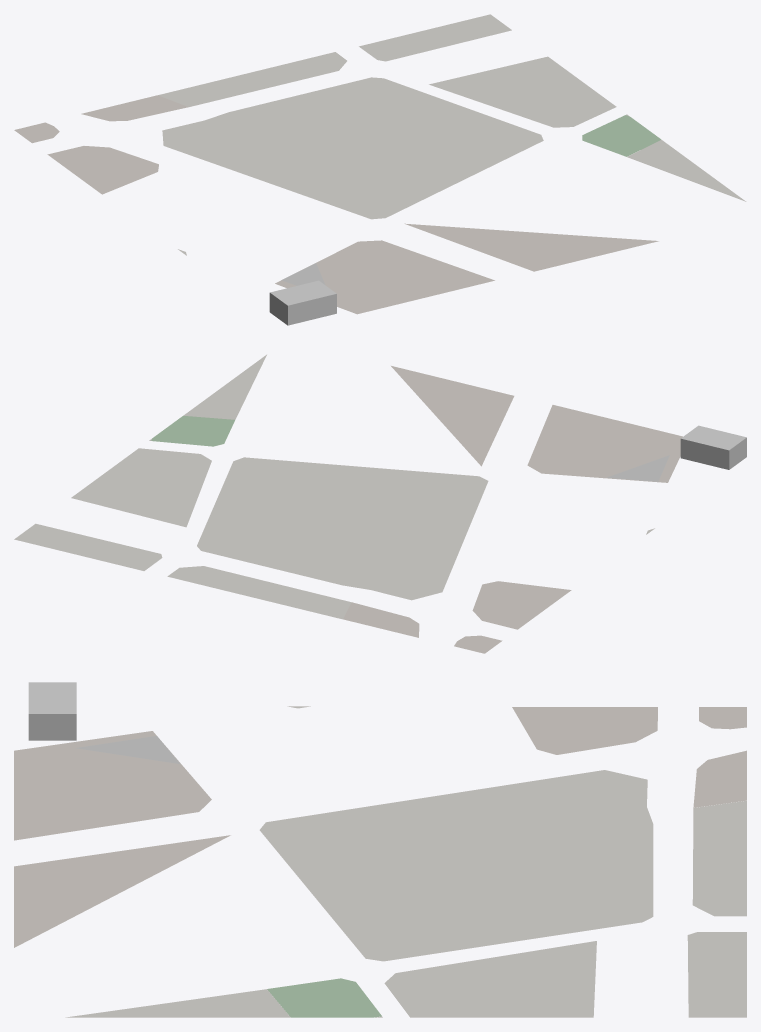
File: 100_104_mid.glb
The picture shows the model from 3 angles, top to bottom: view 1: azimuth 30°, elevation 25°; view 2: azimuth 150°, elevation 25°; view 3: azimuth 270°, elevation 25°; orthographic projection. The views are drawn at different scales.
Bounding box in the file's own units: 500 × 21.41 × 500.
